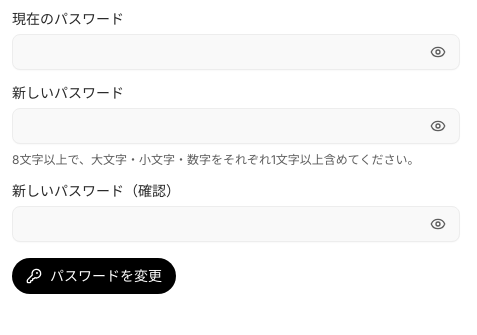
it: PasswordChangeForm（#89） › 現在のパスワードの誤りは項目の下に出す
Type "Wrong123" into the password field labelled "現在のパスワード". click: (236, 52)
box: [12,34,460,70]
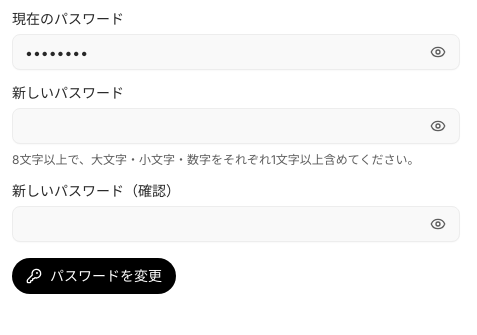
Type "NewPass123" into the password field labelled "新しいパスワード". click: (236, 126)
box: [12,108,460,144]
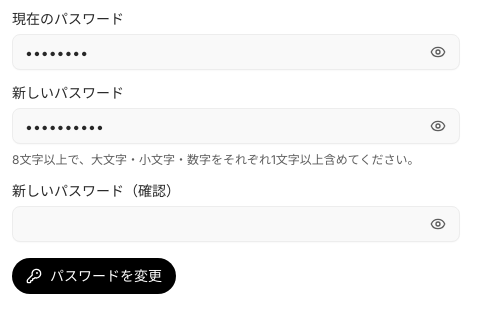
Type "NewPass123" into the password field labelled "新しいパスワード（確認）". click: (236, 224)
box: [12,206,460,242]
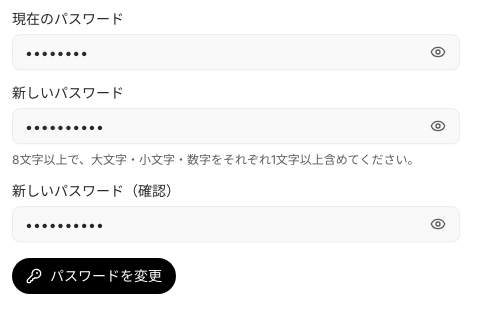
Click the button "パスワードを変更". click: click(94, 276)
box: [12,258,176,294]
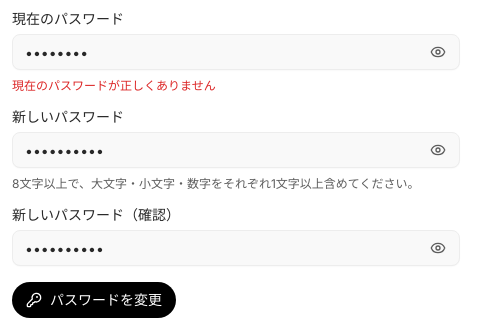
Now the text "現在のパスワードが正しくありません" is shown, box [12,78,216,93]
